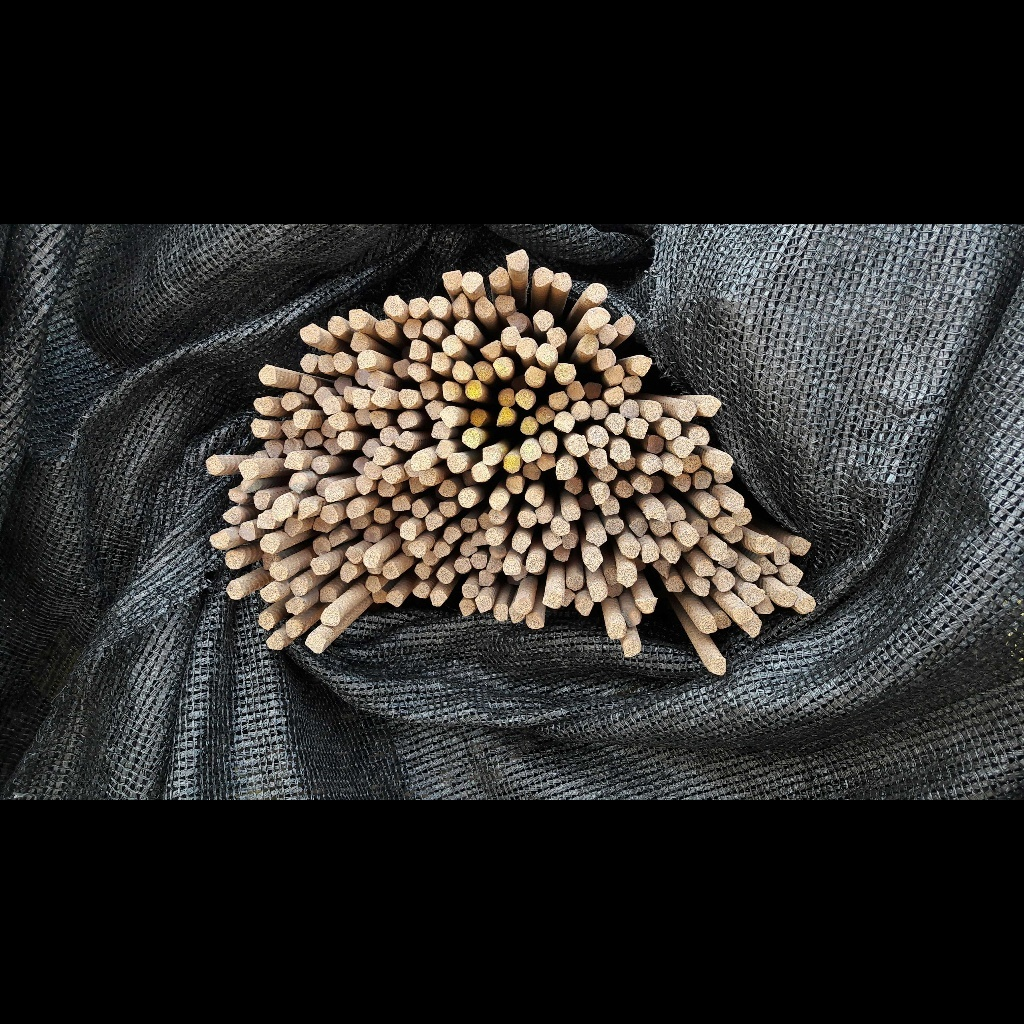dipstick: (384, 294, 406, 319), (627, 418, 650, 441), (507, 249, 529, 273), (585, 307, 611, 327), (605, 412, 627, 435), (719, 492, 744, 512), (674, 525, 699, 545), (461, 271, 483, 293), (661, 417, 683, 439), (506, 311, 527, 334), (554, 363, 577, 384), (672, 437, 695, 458), (702, 395, 722, 419), (607, 617, 627, 641), (451, 293, 470, 318), (298, 323, 320, 344), (454, 319, 475, 341), (514, 389, 535, 411), (616, 314, 637, 336), (774, 588, 796, 609), (428, 295, 448, 318), (442, 269, 462, 292), (489, 266, 509, 289), (532, 310, 552, 333), (536, 343, 556, 366), (576, 335, 599, 355), (741, 614, 761, 637), (349, 307, 368, 331), (272, 497, 291, 521), (327, 316, 348, 337), (473, 360, 494, 381), (554, 412, 575, 433), (587, 283, 608, 304), (588, 427, 609, 448), (745, 585, 766, 606), (225, 580, 245, 602), (552, 271, 572, 293), (546, 327, 566, 349), (519, 442, 541, 462), (642, 401, 664, 421), (782, 563, 802, 585), (556, 458, 575, 481), (574, 593, 593, 616), (283, 453, 307, 471), (371, 387, 391, 408), (408, 297, 428, 318), (402, 318, 422, 339), (493, 293, 514, 313), (442, 334, 462, 355), (496, 407, 516, 428), (598, 323, 618, 344), (569, 435, 590, 455), (320, 605, 339, 627), (534, 266, 553, 288), (473, 297, 495, 316), (526, 365, 545, 387), (678, 400, 697, 422), (621, 634, 640, 656), (662, 542, 681, 564), (209, 531, 232, 549), (595, 349, 618, 367), (649, 519, 672, 537), (297, 500, 317, 520), (305, 633, 325, 653), (493, 357, 513, 377), (452, 361, 472, 381), (548, 391, 568, 411), (543, 590, 563, 610), (693, 471, 713, 491), (640, 540, 660, 560), (260, 534, 281, 553), (259, 584, 280, 603), (409, 340, 428, 361), (431, 352, 450, 373), (516, 337, 535, 358), (460, 430, 481, 449), (470, 463, 491, 482), (603, 365, 624, 384), (689, 426, 710, 445), (641, 454, 662, 473), (584, 550, 603, 571), (588, 581, 607, 602), (645, 501, 666, 520), (708, 656, 727, 677), (333, 352, 351, 374), (250, 418, 268, 440), (621, 376, 643, 394), (609, 442, 631, 460), (617, 565, 635, 587), (635, 596, 657, 614), (356, 352, 379, 369), (259, 608, 276, 631), (628, 357, 651, 374), (257, 365, 277, 384), (239, 460, 258, 480), (323, 483, 343, 502), (397, 411, 417, 430), (399, 388, 418, 408), (418, 381, 438, 400), (345, 499, 364, 519), (224, 550, 243, 570), (375, 319, 395, 338), (423, 319, 442, 339), (566, 381, 586, 400), (447, 454, 466, 474), (536, 453, 556, 472), (517, 509, 536, 529), (512, 533, 531, 553), (526, 554, 545, 574), (664, 456, 683, 476), (632, 475, 651, 495), (587, 527, 607, 546), (666, 503, 686, 522), (790, 536, 810, 555), (327, 412, 348, 430), (619, 400, 640, 418), (653, 558, 671, 579), (293, 408, 310, 430), (480, 341, 502, 358), (349, 332, 368, 351), (536, 407, 555, 426), (502, 455, 521, 474), (742, 563, 761, 582), (300, 375, 318, 395), (323, 395, 341, 415), (370, 410, 388, 430), (396, 430, 414, 450), (289, 578, 309, 596), (425, 511, 443, 531), (423, 401, 443, 419), (431, 421, 451, 439), (435, 440, 453, 460), (534, 506, 552, 526), (549, 517, 569, 535), (513, 596, 533, 614), (572, 401, 590, 421), (682, 455, 702, 473), (712, 453, 732, 471), (714, 467, 734, 485), (623, 608, 641, 628), (690, 578, 710, 596), (760, 557, 780, 575), (755, 596, 775, 614), (392, 359, 409, 380), (441, 405, 458, 426), (540, 433, 557, 454), (694, 560, 716, 576), (253, 397, 272, 415), (304, 429, 322, 448), (310, 456, 329, 474), (288, 473, 306, 492), (378, 427, 396, 446), (321, 505, 339, 524), (377, 480, 396, 498), (313, 536, 332, 554), (238, 523, 257, 541), (345, 545, 363, 564), (385, 590, 404, 608), (501, 327, 520, 345), (465, 380, 484, 398), (520, 416, 538, 435), (482, 447, 500, 466), (522, 463, 541, 481), (524, 489, 543, 507), (561, 503, 580, 521), (485, 528, 503, 547), (474, 596, 493, 614), (605, 386, 624, 404), (591, 401, 609, 420), (590, 449, 608, 468), (591, 485, 609, 504), (622, 540, 640, 559), (629, 518, 647, 537), (718, 572, 736, 591), (796, 596, 815, 614), (714, 611, 732, 630), (205, 454, 222, 474), (382, 466, 402, 483), (411, 452, 431, 469), (268, 563, 288, 580), (441, 380, 458, 400), (498, 387, 515, 407), (488, 493, 508, 510), (647, 434, 664, 454), (723, 526, 743, 543), (710, 541, 727, 561), (310, 558, 331, 574), (692, 518, 708, 539), (313, 387, 331, 405), (263, 440, 281, 458), (260, 552, 278, 570), (266, 633, 284, 651), (505, 477, 523, 495), (436, 566, 454, 584), (501, 558, 519, 576), (329, 529, 348, 546), (285, 597, 304, 614), (492, 603, 509, 622), (566, 574, 585, 591), (615, 481, 634, 498), (674, 473, 691, 492), (756, 537, 775, 554), (318, 354, 334, 374), (300, 353, 316, 373), (356, 474, 372, 494), (285, 618, 301, 638), (700, 500, 720, 516), (281, 393, 299, 410), (354, 409, 372, 426), (418, 470, 436, 487), (284, 519, 302, 536), (257, 513, 275, 530), (383, 562, 400, 580), (414, 563, 432, 580), (409, 363, 426, 381), (458, 489, 475, 507), (433, 541, 450, 559), (489, 509, 507, 526), (554, 546, 572, 563), (602, 498, 620, 515), (733, 508, 751, 525), (701, 617, 718, 635), (368, 370, 384, 389), (353, 389, 369, 408), (227, 487, 246, 503), (373, 447, 389, 466), (392, 496, 411, 512), (340, 564, 356, 583), (470, 408, 486, 427), (584, 382, 603, 398), (598, 466, 617, 482), (648, 475, 664, 494), (665, 577, 684, 593), (338, 430, 353, 450), (320, 420, 337, 437), (252, 491, 269, 508), (315, 480, 332, 497), (364, 461, 381, 478), (403, 461, 420, 478), (319, 587, 336, 604), (565, 478, 582, 495), (478, 570, 495, 587), (333, 376, 349, 394), (282, 420, 298, 438), (323, 438, 341, 454), (362, 438, 378, 456), (223, 507, 241, 523), (364, 575, 382, 591), (412, 583, 430, 599), (443, 527, 461, 543), (715, 516, 733, 532), (774, 546, 790, 564), (412, 500, 427, 519), (580, 493, 595, 512), (362, 527, 382, 541), (283, 438, 299, 455), (408, 477, 425, 493), (363, 550, 379, 567), (430, 590, 447, 606), (440, 480, 457, 496), (439, 501, 456, 517), (461, 517, 477, 534), (471, 532, 488, 548), (454, 558, 470, 575), (458, 599, 475, 615), (508, 607, 525, 623), (544, 534, 561, 550), (618, 456, 635, 472), (606, 519, 623, 535), (352, 456, 367, 474), (313, 517, 331, 532), (526, 614, 544, 629), (603, 567, 618, 585), (460, 584, 479, 598), (487, 557, 503, 573), (373, 507, 390, 522), (409, 541, 424, 558), (459, 542, 477, 556), (675, 539, 693, 553), (401, 524, 416, 540), (510, 375, 526, 390), (471, 554, 486, 570), (562, 533, 577, 549), (721, 552, 737, 567), (350, 516, 367, 530), (489, 545, 506, 559), (371, 589, 387, 603), (606, 583, 622, 597), (355, 368, 368, 385), (240, 478, 257, 491), (478, 513, 491, 530), (423, 551, 438, 565), (402, 540, 414, 557), (562, 590, 573, 608), (366, 563, 383, 574), (515, 565, 526, 582), (462, 473, 476, 486), (344, 386, 354, 404), (393, 516, 406, 529), (634, 558, 645, 572), (507, 575, 518, 586), (251, 451, 266, 459)
